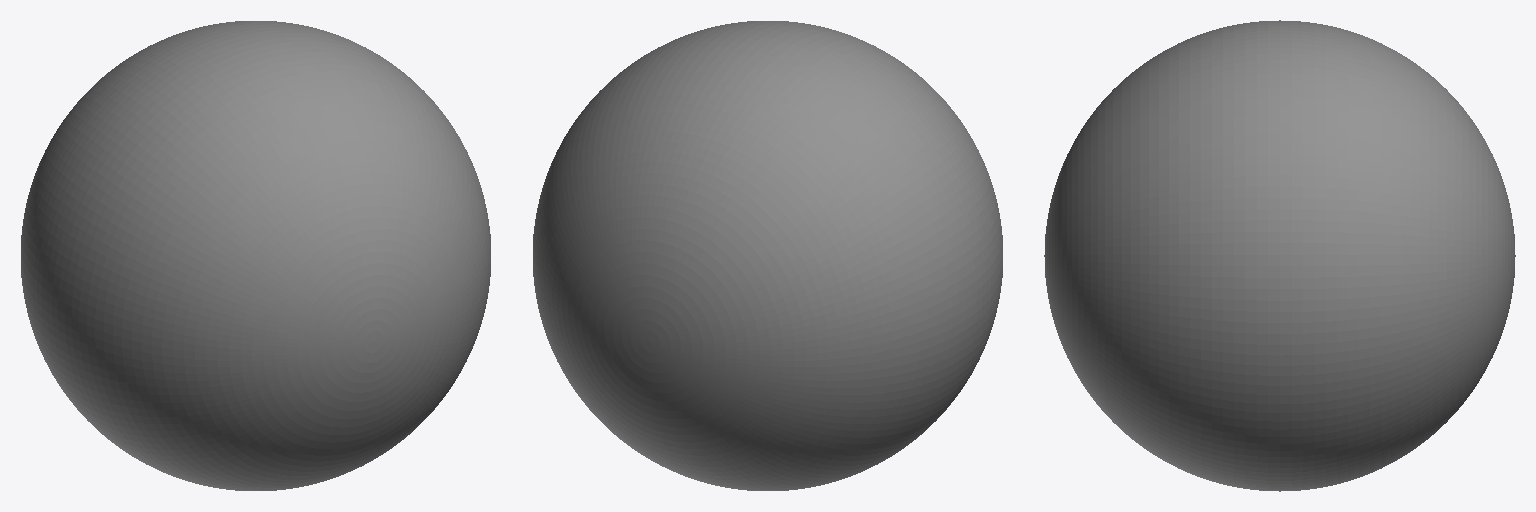
File: rocky_sphere.obj
The picture shows the model from 3 angles: view 1: azimuth 30°, elevation 25°; view 2: azimuth 150°, elevation 25°; view 3: azimuth 270°, elevation 25°; orthographic projection.
Parts seen in each view (by area): view 1: Sphere001; view 2: Sphere001; view 3: Sphere001.
Boxes of the visible parts, <box> form: Sphere001: <box>21,21,490,490</box>; Sphere001: <box>533,21,1002,490</box>; Sphere001: <box>1044,20,1515,491</box>.
Bounding box in the file's own units: 166 × 166 × 166.